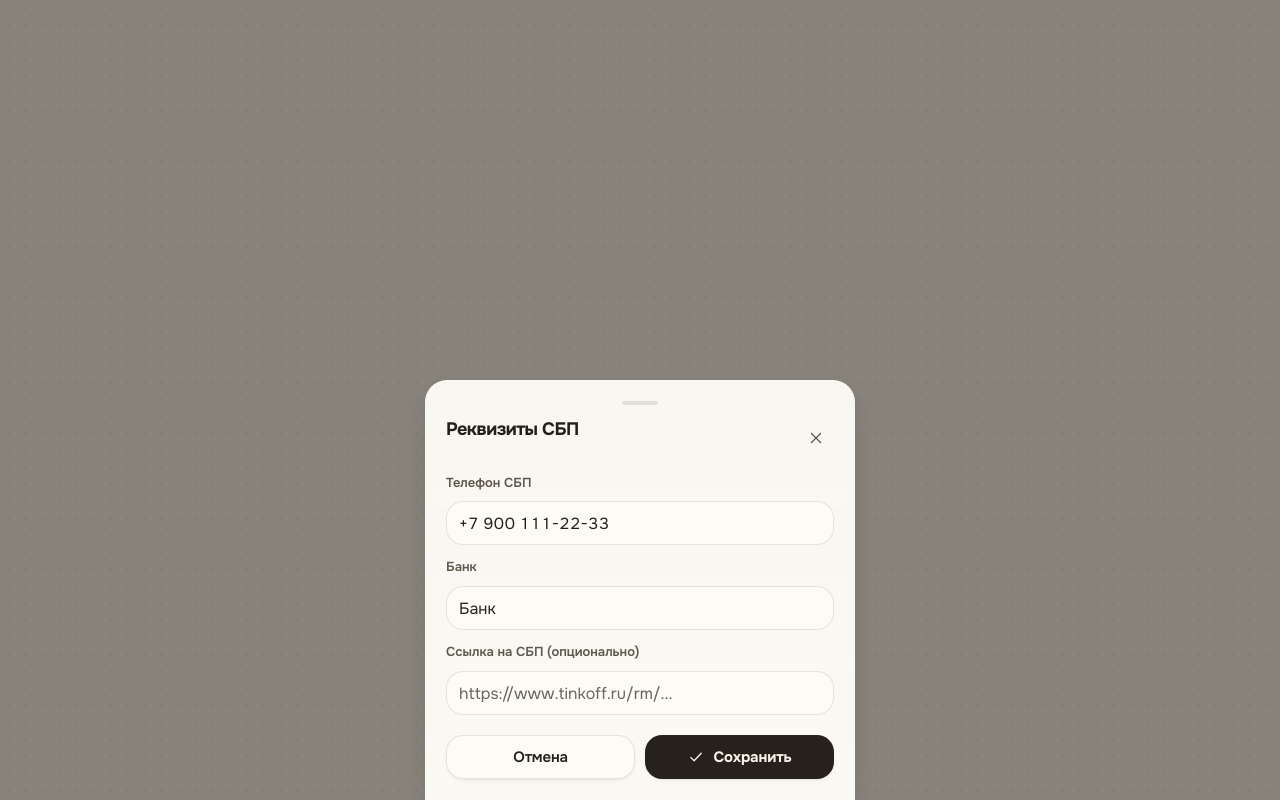
Test: EditPaymentInfoSheet › показывает отказ сервера, а не молчит
The image size is (1280, 800).
Click the button "Сохранить": [740, 757] box [645,735,834,779]
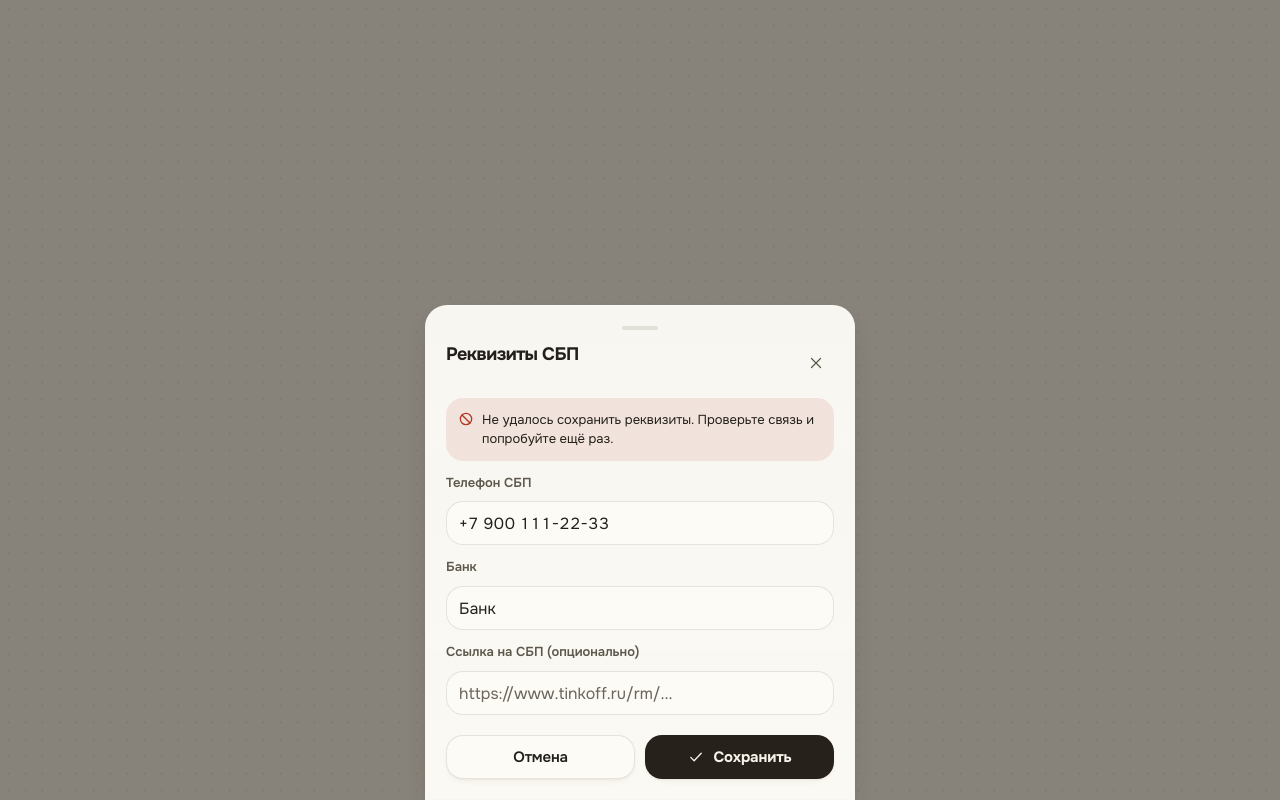
Expected: the dialog is shown, [425,305,855,799]
Now the text "Не удалось сохранить реквизиты" is shown, box [482,411,814,447]
